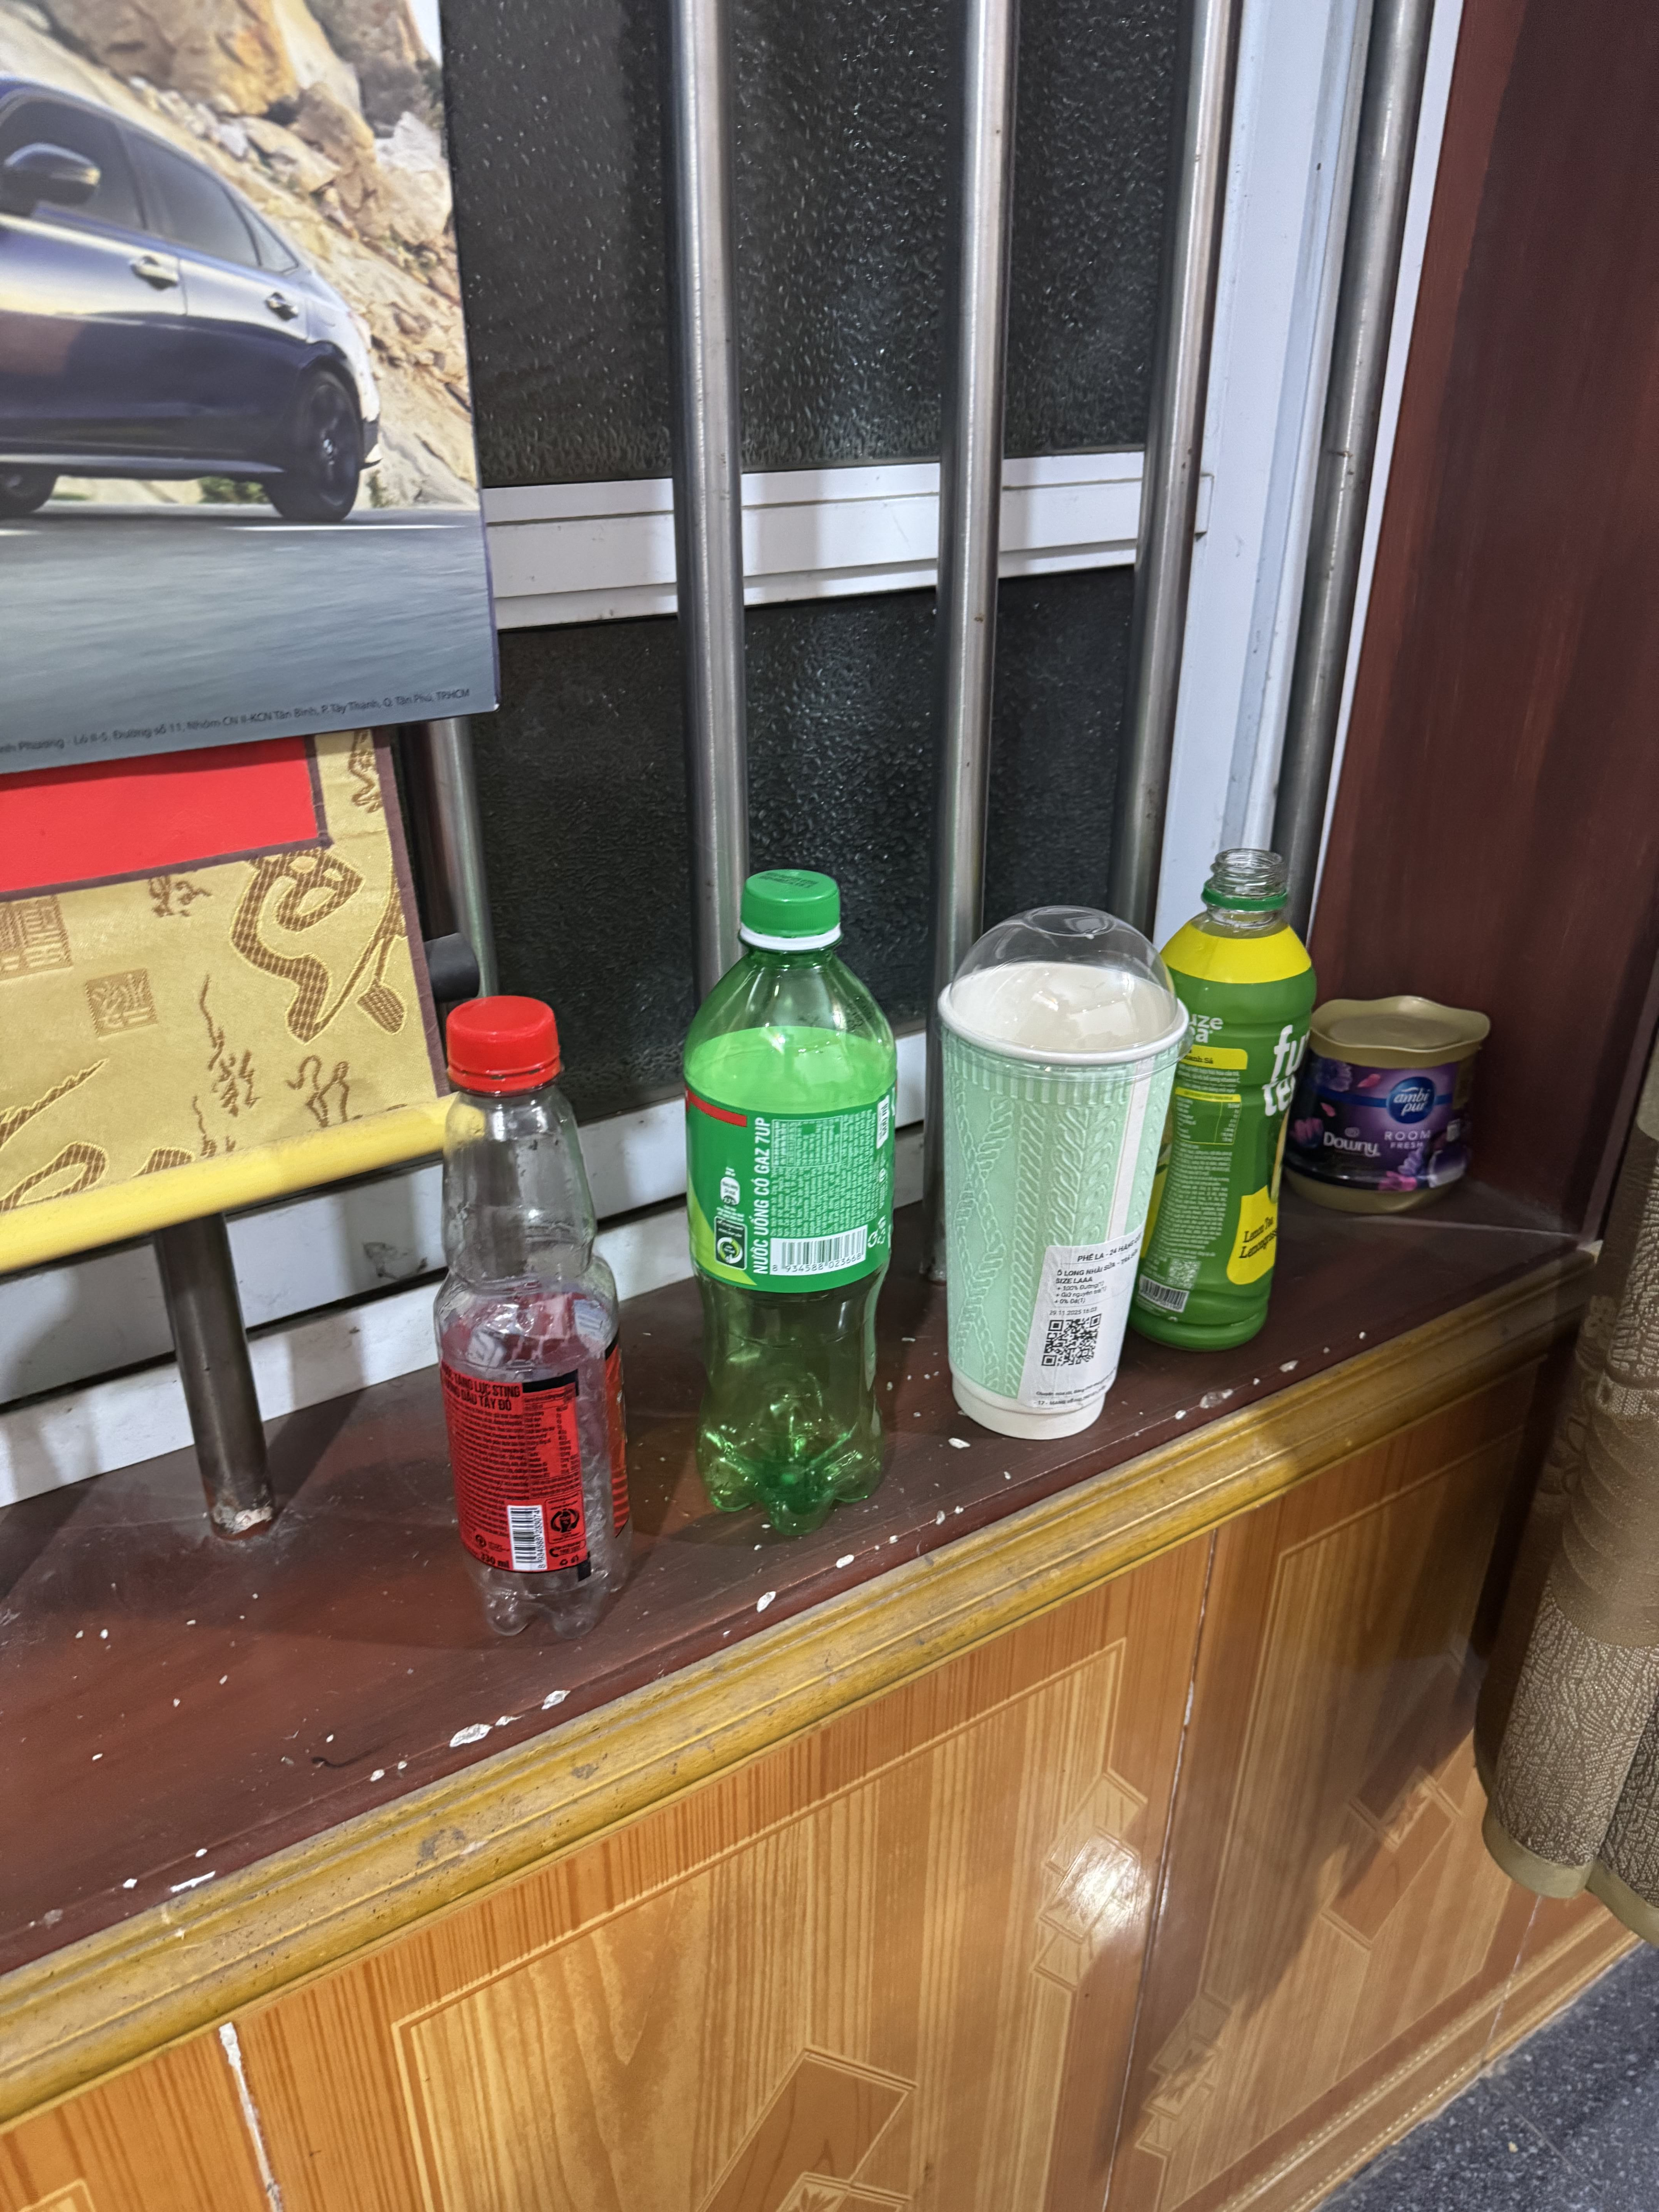2: (910, 820, 1199, 1487)
bottle: (408, 970, 669, 1667), (669, 850, 922, 1564), (1108, 827, 1335, 1379)
